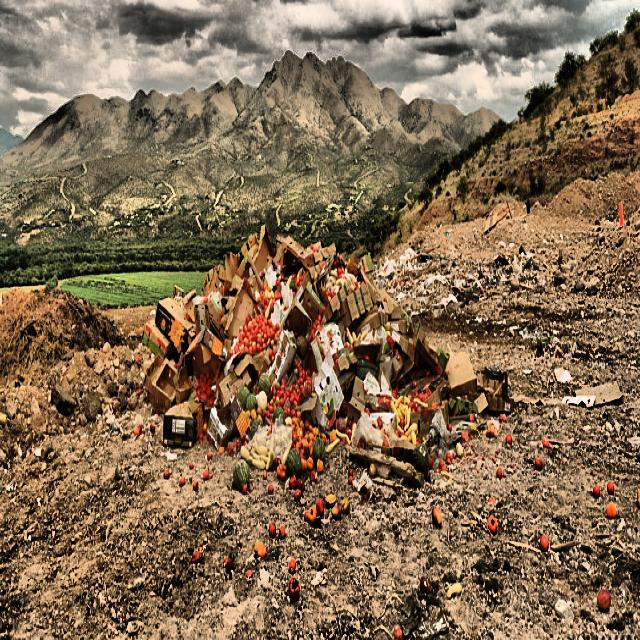garbage: (148, 224, 445, 497)
